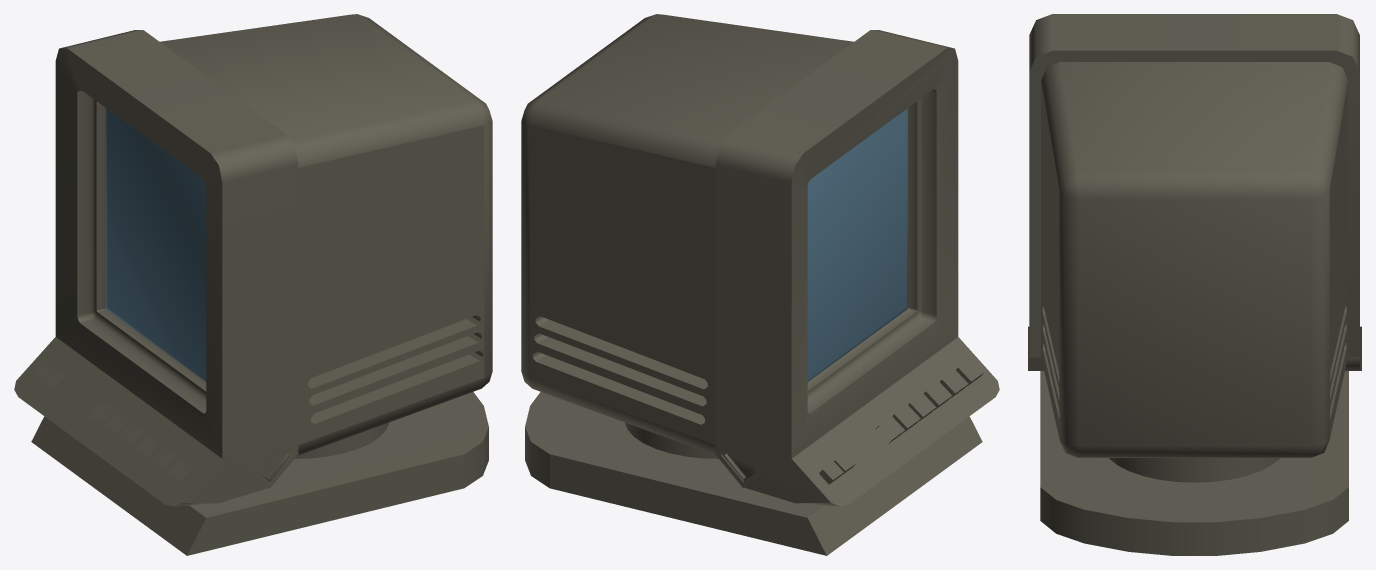
The model's file is monitor_tier8.fbx.
3 views of the same model, side by side, from view 1: azimuth 30°, elevation 25°; view 2: azimuth 150°, elevation 25°; view 3: azimuth 270°, elevation 25° (orthographic).
Parts seen in each view (by area): view 1: Cube.003; view 2: Cube.003; view 3: Cube.003.
Part boxes in pixels (x1,y1,x2,y2): Cube.003: (14,14,492,555); Cube.003: (521,14,999,555); Cube.003: (1028,14,1361,555).
Size of the model in its own units: 0.7033 by 0.7146 by 0.5583.
